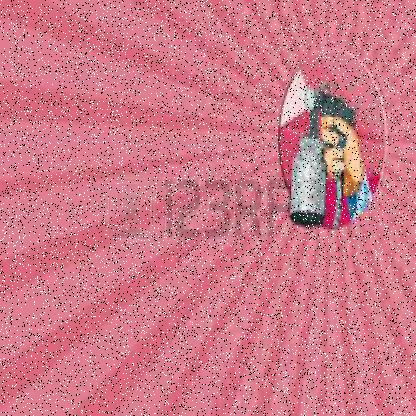pistol: (308, 86, 355, 170)
